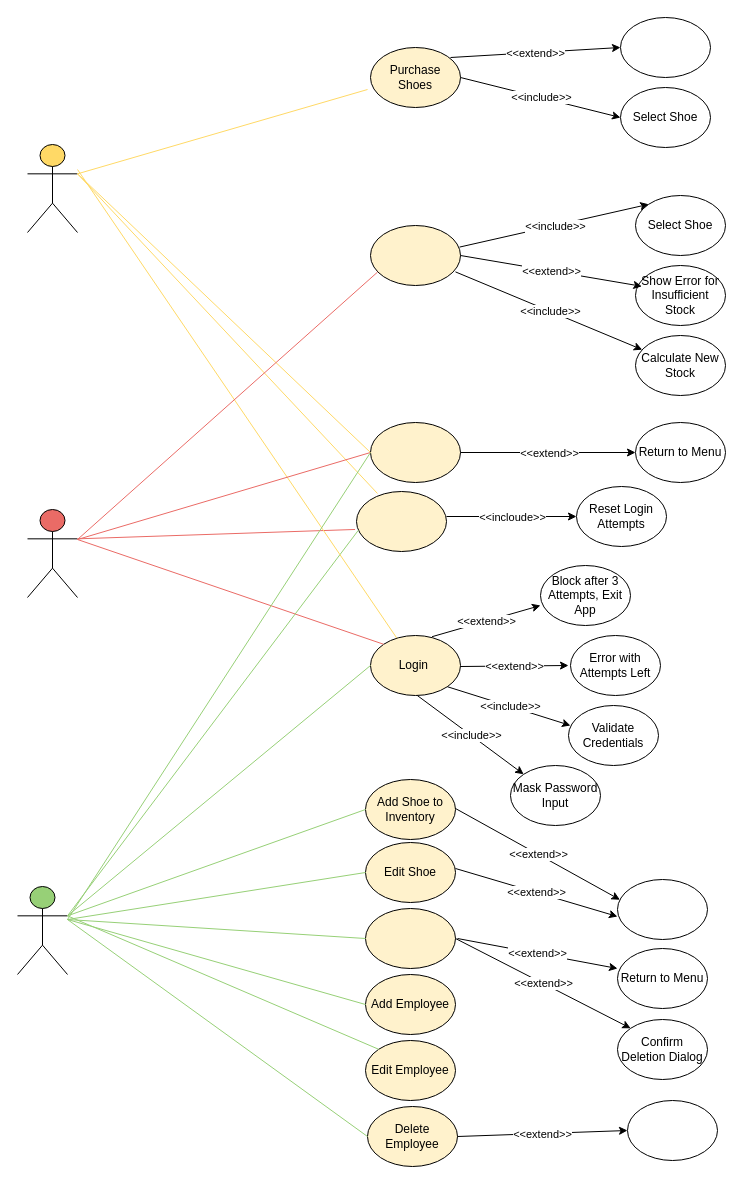
Some shapes in this 743 by 1184 pixel diagram are drawn without their labels. The centre of each missing label's shape, as x and y in pixels:
"Delete Shoe" belongs at point 410,938.
"Logout" belongs at point 401,521.
"Manager" belongs at point 42,930.
"Prevent Self Deletion" belongs at point 672,1130.
"Purchase" belongs at point 52,188.
"Sales" belongs at point 52,553.
"Sell Shoes" belongs at point 415,255.
"Show Duplicate Shoe Error" belongs at point 662,909.
"Validate Positive Quantity" belongs at point 665,47.
"View shoe stock" belongs at point 415,452.
